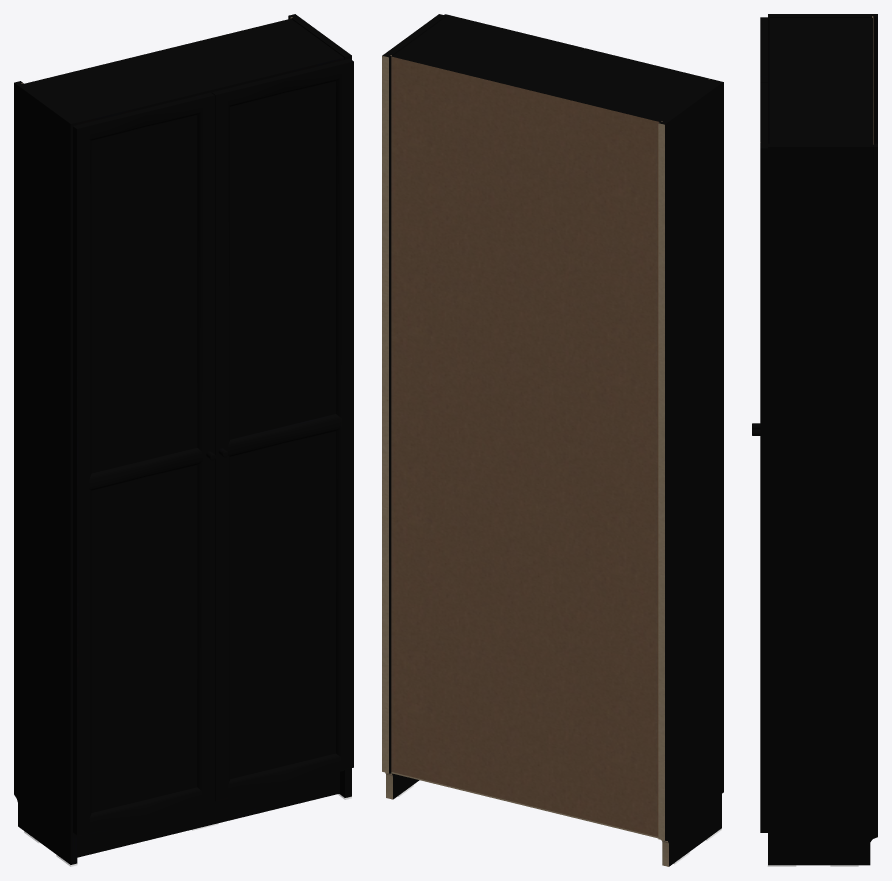
The model's file is billy_bookcase_with_doors_black_oak_effe.glb.
3 views of the same model, side by side, from view 1: azimuth 30°, elevation 25°; view 2: azimuth 150°, elevation 25°; view 3: azimuth 270°, elevation 25° (orthographic). The views are drawn at different scales.
Visible parts, largest first — view 1: Mesh_0; view 2: Mesh_0; view 3: Mesh_0.
Boxes of the visible parts, x1,y1,x2,y2 form: Mesh_0: (14, 14, 353, 864); Mesh_0: (382, 14, 723, 866); Mesh_0: (752, 14, 877, 865).
Size of the model in its own units: 0.8003 by 2.02 by 0.3199.
Materials: 2 (1 with a texture image).
